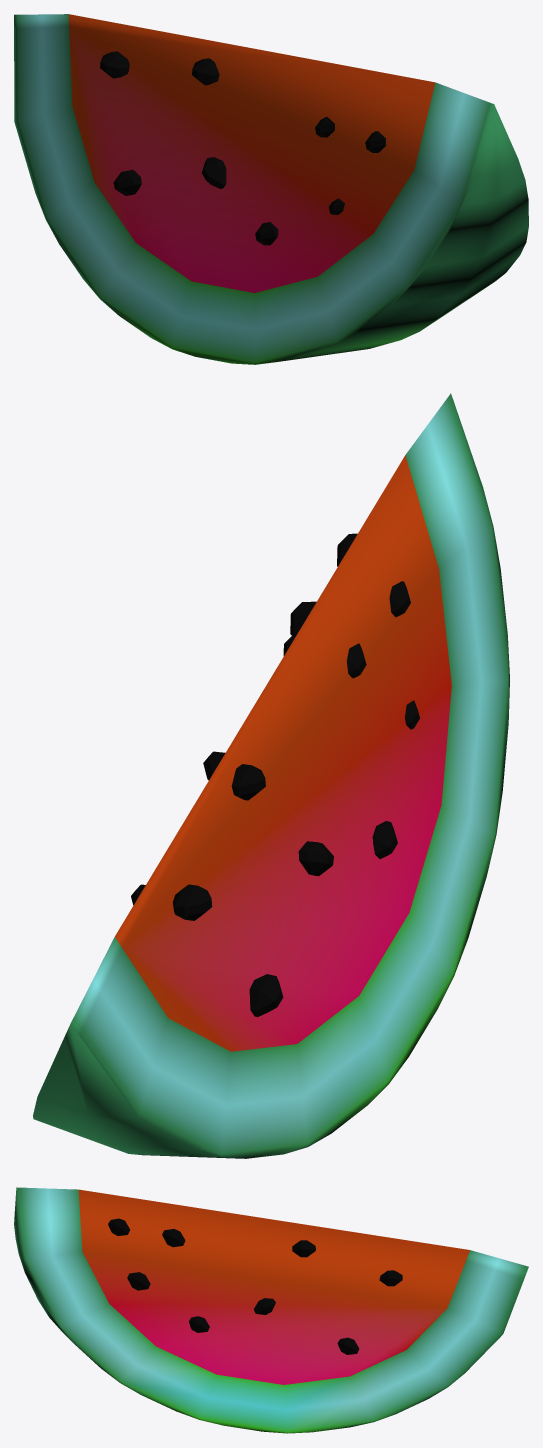
The model's file is арбуз.fbx.
3 renders of one model, top to bottom at view 1: azimuth 30°, elevation 25°; view 2: azimuth 150°, elevation 25°; view 3: azimuth 270°, elevation 25°, orthographic. The views are drawn at different scales.
Parts seen in each view (by area): view 1: Sphere.006; view 2: Sphere.006; view 3: Sphere.006.
Part boxes in pixels (left/top/right/bottom): Sphere.006: left=14, top=14, right=528, bottom=364; Sphere.006: left=33, top=393, right=509, bottom=1158; Sphere.006: left=14, top=1187, right=528, bottom=1433.
Bounding box in the file's own units: 133 × 208 × 398.
